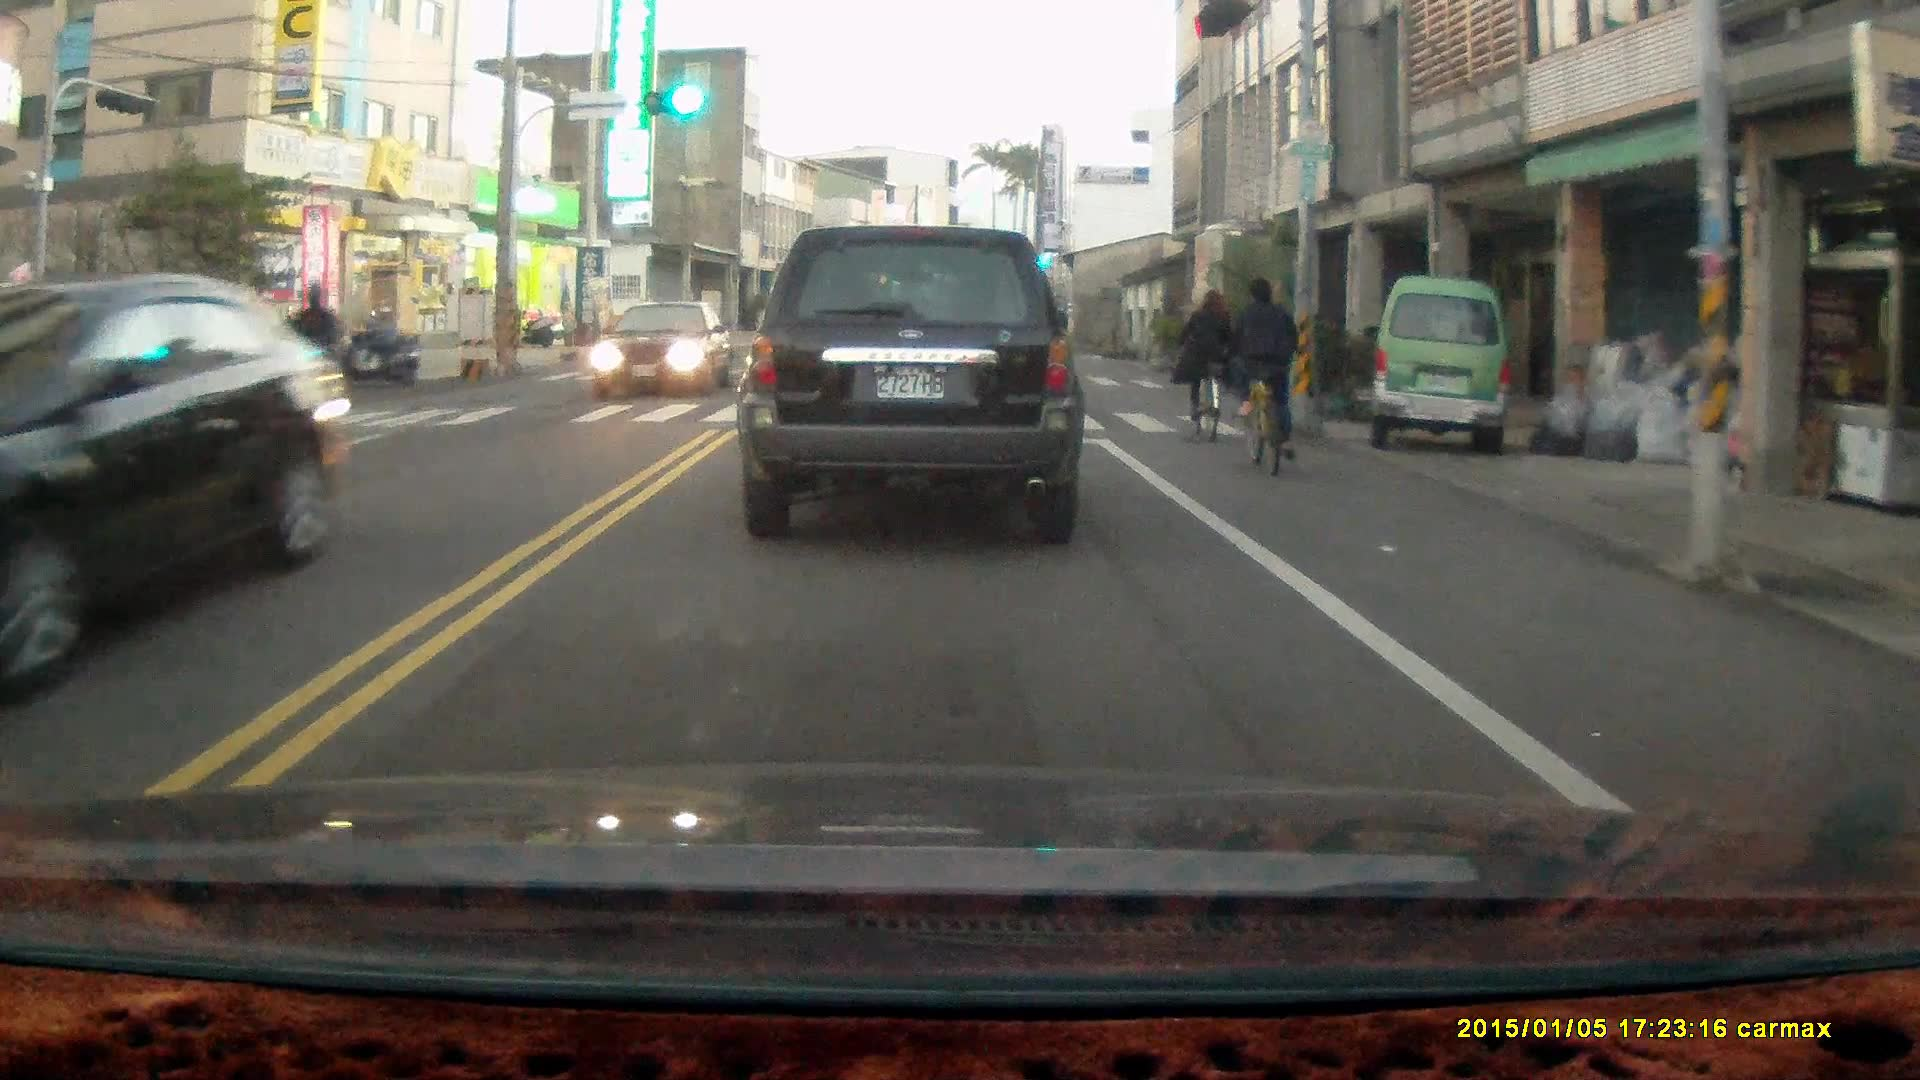rider: (1219, 274, 1300, 479), (1173, 289, 1232, 446), (334, 308, 415, 392)
vehicle: (1, 273, 358, 680), (752, 224, 1088, 533), (1367, 276, 1513, 461), (588, 302, 738, 405)
